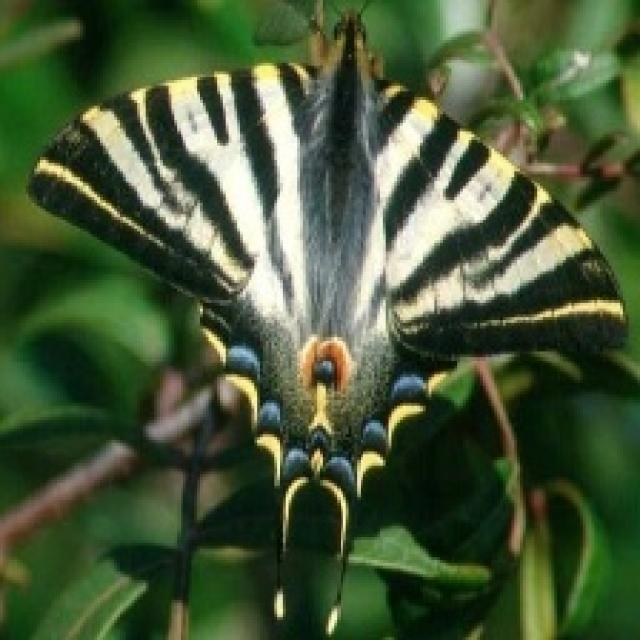butterfly: (23, 0, 628, 637)
